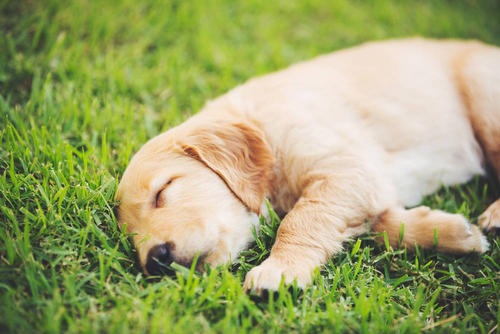dog: (94, 124, 276, 289)
